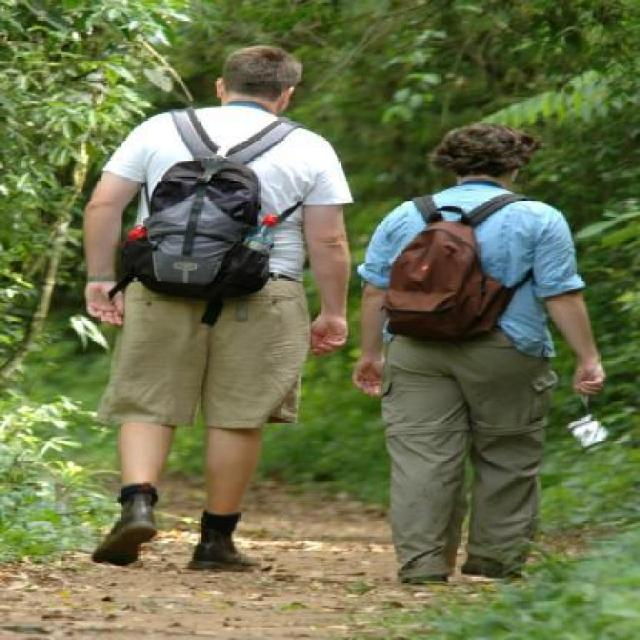backpack: (119, 120, 303, 302), (377, 193, 531, 344)
